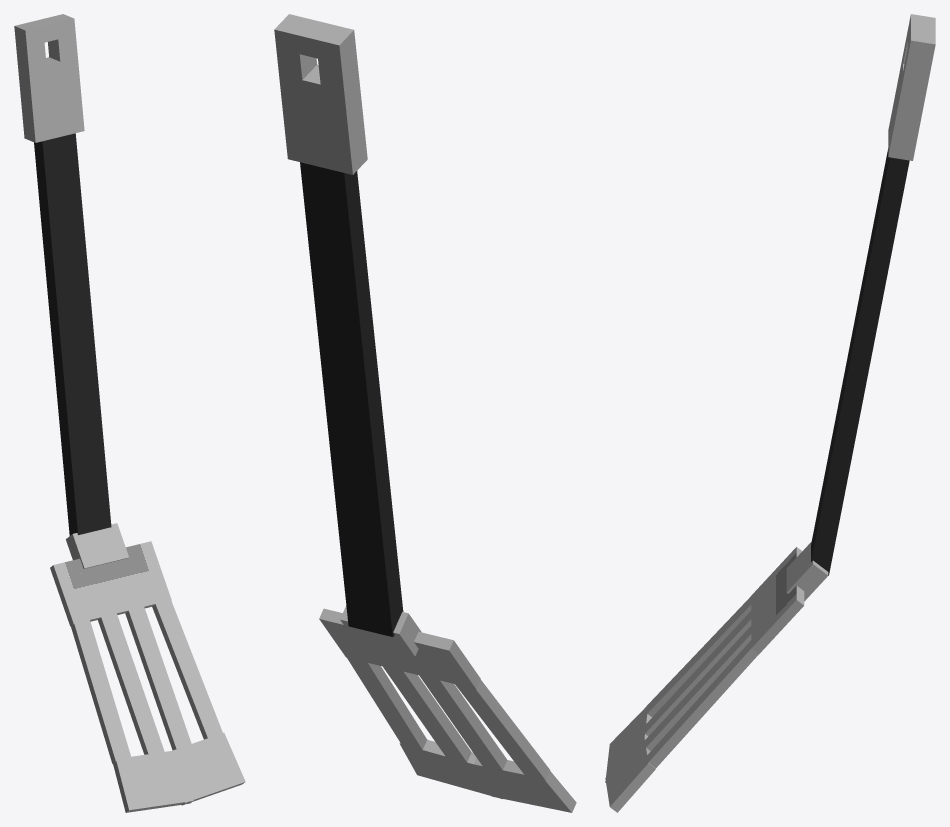
3 renders of one model, left to right at view 1: azimuth 30°, elevation 25°; view 2: azimuth 150°, elevation 25°; view 3: azimuth 270°, elevation 25°, orthographic. The views are drawn at different scales.
Parts seen in each view (by area): view 1: cube, cuboid_4, cube_1, cuboid_5, cuboid_6, cuboid, cuboid_1, cuboid_3, cuboid_2, cuboid_7, cube_2, cube_3; view 2: cube, cube_1, cuboid_4, cuboid_2, cuboid, cuboid_1, cuboid_6, cuboid_5, cuboid_3, cube_2, cube_3, cuboid_7 (+1 smaller); view 3: cube, cuboid_4, cuboid_3, cube_1, cuboid, cuboid_6, cuboid_2, cuboid_1, cube_3, cuboid_5, cuboid_7.
Boxes of the visible parts, <box> form: cube: <box>34,133,111,535</box>; cuboid_4: <box>50,541,171,626</box>; cube_1: <box>18,57,84,142</box>; cuboid_5: <box>113,749,193,812</box>; cuboid_6: <box>164,732,245,805</box>; cuboid: <box>125,607,191,750</box>; cuboid_1: <box>98,613,164,755</box>; cuboid_3: <box>152,598,223,739</box>; cuboid_2: <box>71,618,131,763</box>; cuboid_7: <box>66,523,128,568</box>; cube_2: <box>14,21,46,69</box>; cube_3: <box>46,14,77,61</box>; cube: <box>300,162,403,636</box>; cube_1: <box>279,64,367,174</box>; cuboid_4: <box>319,608,480,688</box>; cuboid_2: <box>455,680,549,780</box>; cuboid: <box>383,666,471,762</box>; cuboid_1: <box>419,675,507,771</box>; cuboid_6: <box>399,739,502,799</box>; cuboid_5: <box>474,758,576,812</box>; cuboid_3: <box>346,656,427,749</box>; cube_2: <box>316,24,358,90</box>; cube_3: <box>274,14,317,79</box>; cuboid_7: <box>340,606,421,656</box>; cube: <box>811,148,909,575</box>; cuboid_4: <box>751,547,804,653</box>; cuboid_3: <box>646,639,758,767</box>; cube_1: <box>888,56,927,160</box>; cuboid: <box>644,626,751,750</box>; cuboid_6: <box>605,738,655,812</box>; cuboid_2: <box>647,596,751,717</box>; cuboid_1: <box>645,611,751,736</box>; cube_3: <box>903,31,935,84</box>; cuboid_5: <box>605,705,651,782</box>; cuboid_7: <box>786,542,828,601</box>.
Bounding box in the file's own units: 58.09 × 325 × 128.
1 material, 1 textured.
